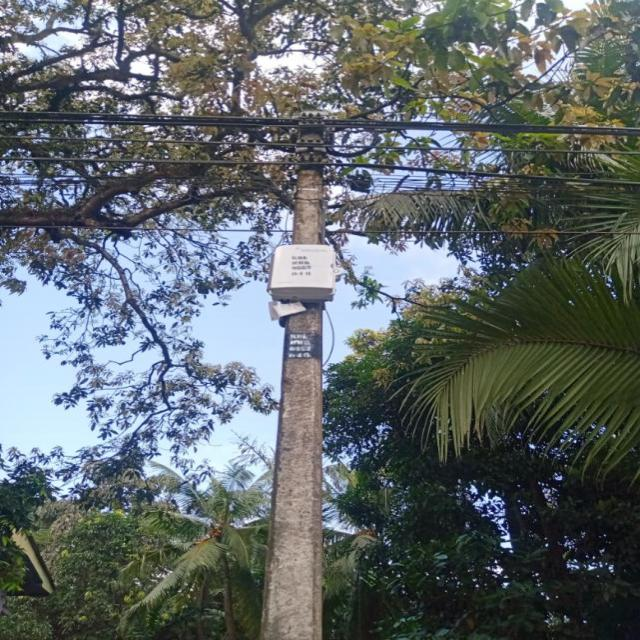light_pole: (248, 117, 367, 640)
